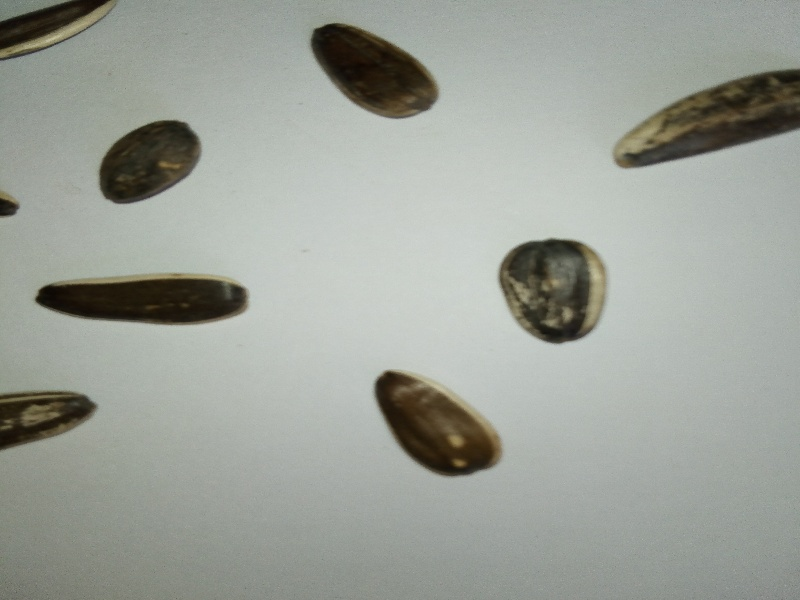girasol: (361, 362, 510, 482), (482, 224, 618, 348), (300, 16, 446, 127), (30, 269, 261, 334), (93, 115, 207, 216)
